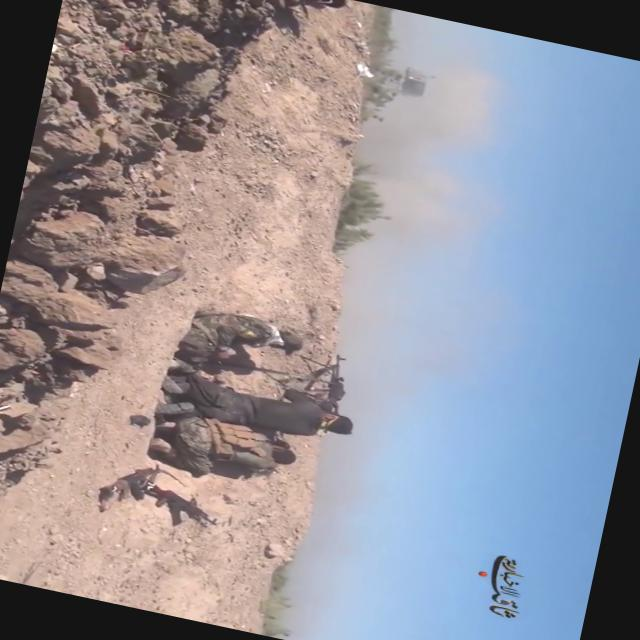long weapon: (296, 342, 358, 413)
